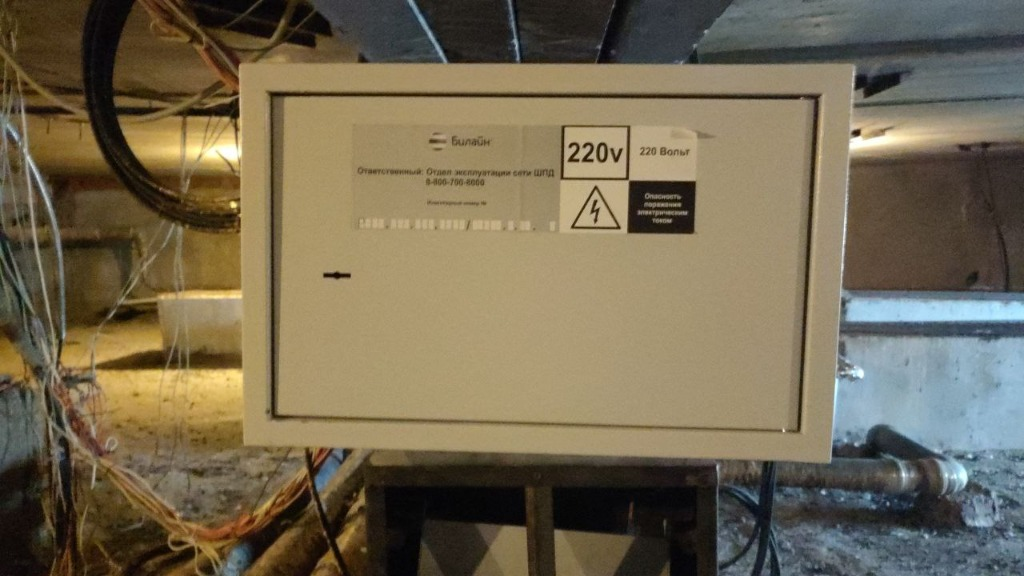shta-7m: (236, 58, 856, 468)
